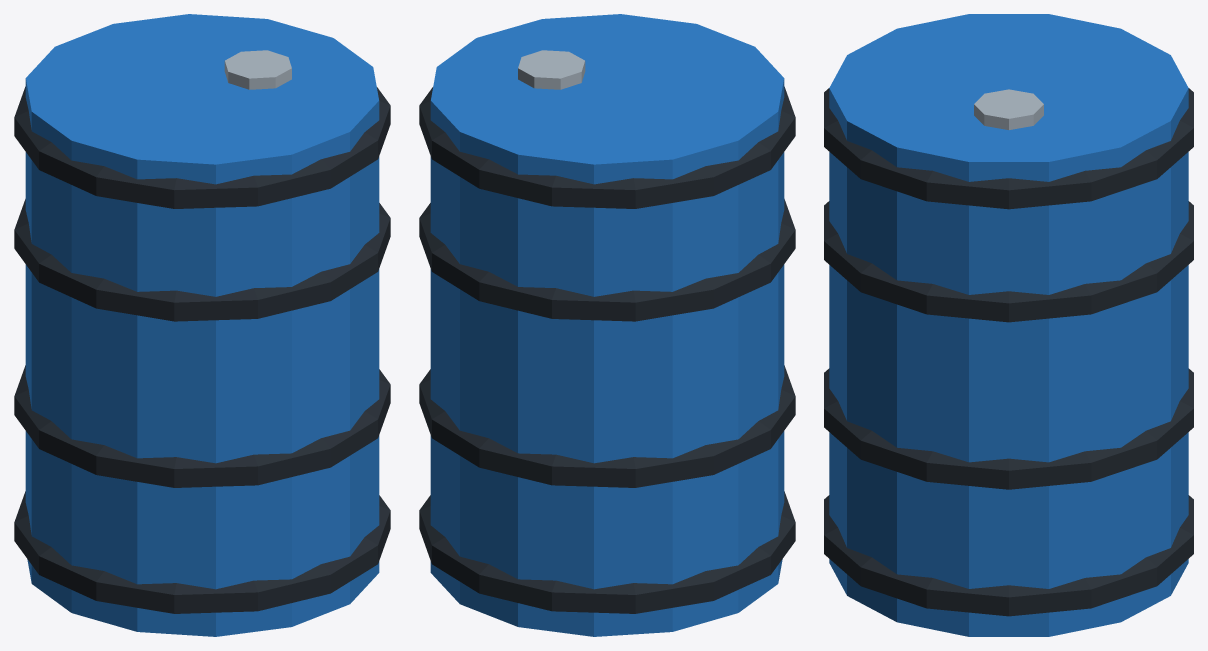
The model's file is oil_barrel_blue.glb.
The picture shows the model from 3 angles, left to right: view 1: azimuth 30°, elevation 25°; view 2: azimuth 150°, elevation 25°; view 3: azimuth 270°, elevation 25°; orthographic projection.
Parts seen in each view (by area): view 1: oil_barrel_blue__static; view 2: oil_barrel_blue__static; view 3: oil_barrel_blue__static.
Boxes of the visible parts, x1,y1,x2,y2 form: oil_barrel_blue__static: (14, 14, 390, 636); oil_barrel_blue__static: (419, 14, 795, 636); oil_barrel_blue__static: (824, 14, 1193, 636).
Size of the model in its own units: 0.76 by 1.08 by 0.7409.
